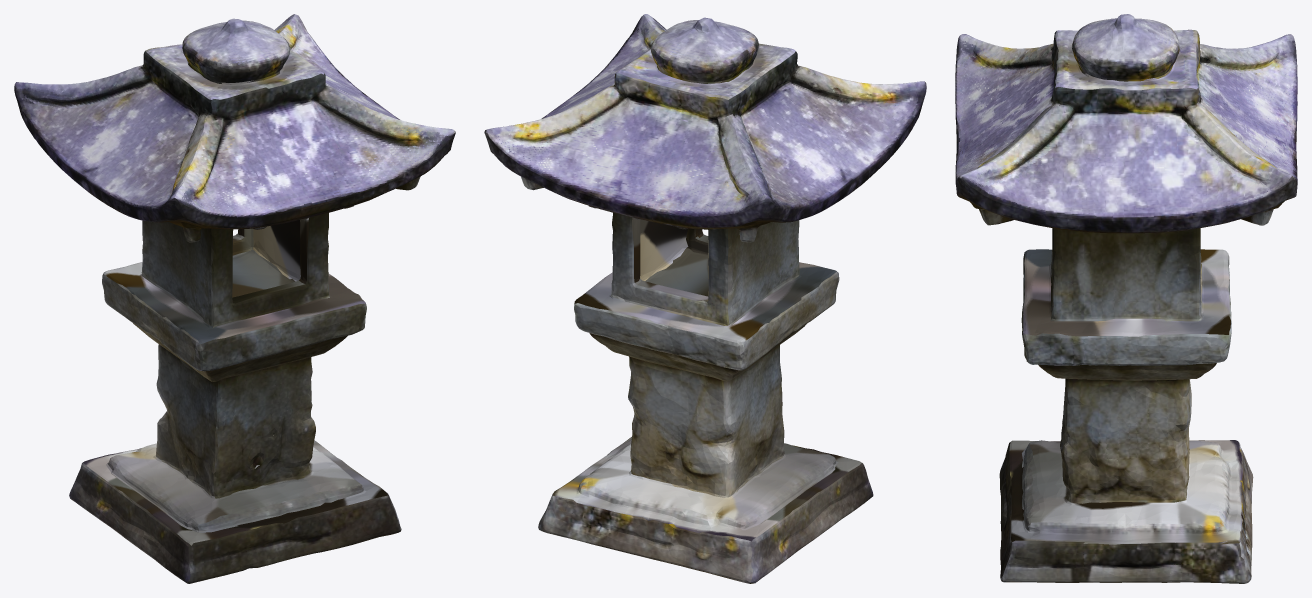
File: traveler_env_coast_shadowlands_ruined_shrine_00001_.glb
3 views of the same model, side by side, from view 1: azimuth 30°, elevation 25°; view 2: azimuth 150°, elevation 25°; view 3: azimuth 270°, elevation 25° (orthographic). The views are drawn at different scales.
Visible parts, largest first — view 1: temp_mesh.ply; view 2: temp_mesh.ply; view 3: temp_mesh.ply.
Part boxes in pixels (box(x1,y1,x2,y2)): temp_mesh.ply: box(14, 14, 455, 583); temp_mesh.ply: box(484, 14, 926, 583); temp_mesh.ply: box(955, 14, 1297, 583).
Size of the model in its own units: 1.24 by 1.97 by 1.19.
1 material, 1 textured.
